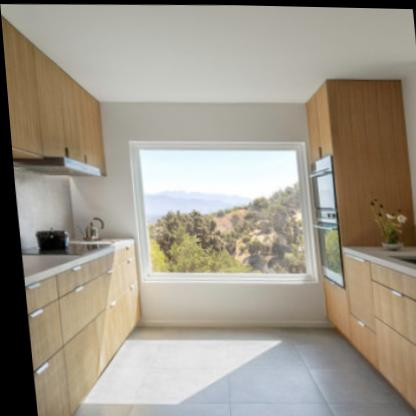Cabinet: (20, 239, 138, 416), (340, 246, 416, 416)
